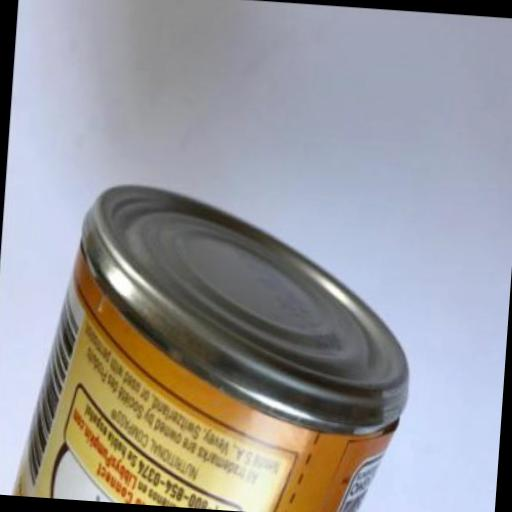metal: (6, 174, 419, 512)
